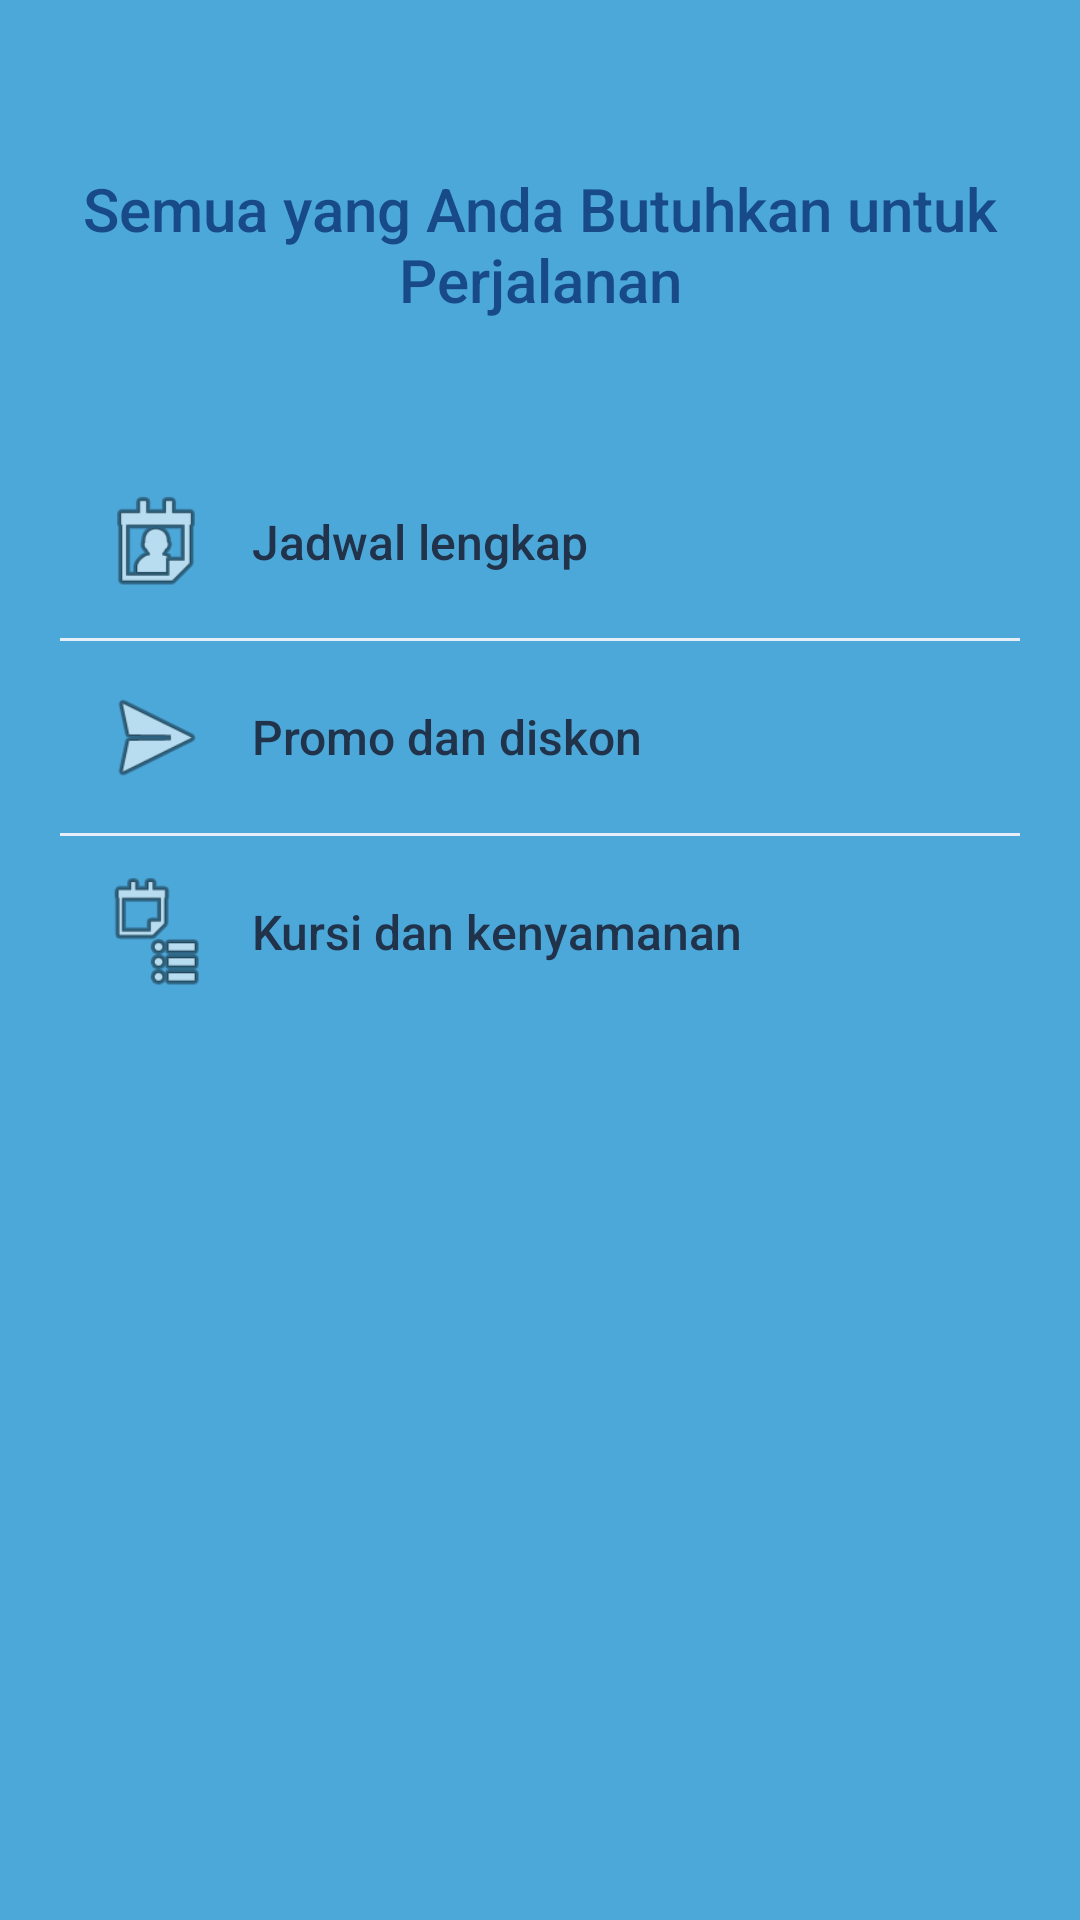

Where to tap for icons on this 1080 × 1920 app screen, as (x,y):
agenda: (156,931)
calendar: (156,541)
send: (157,738)
